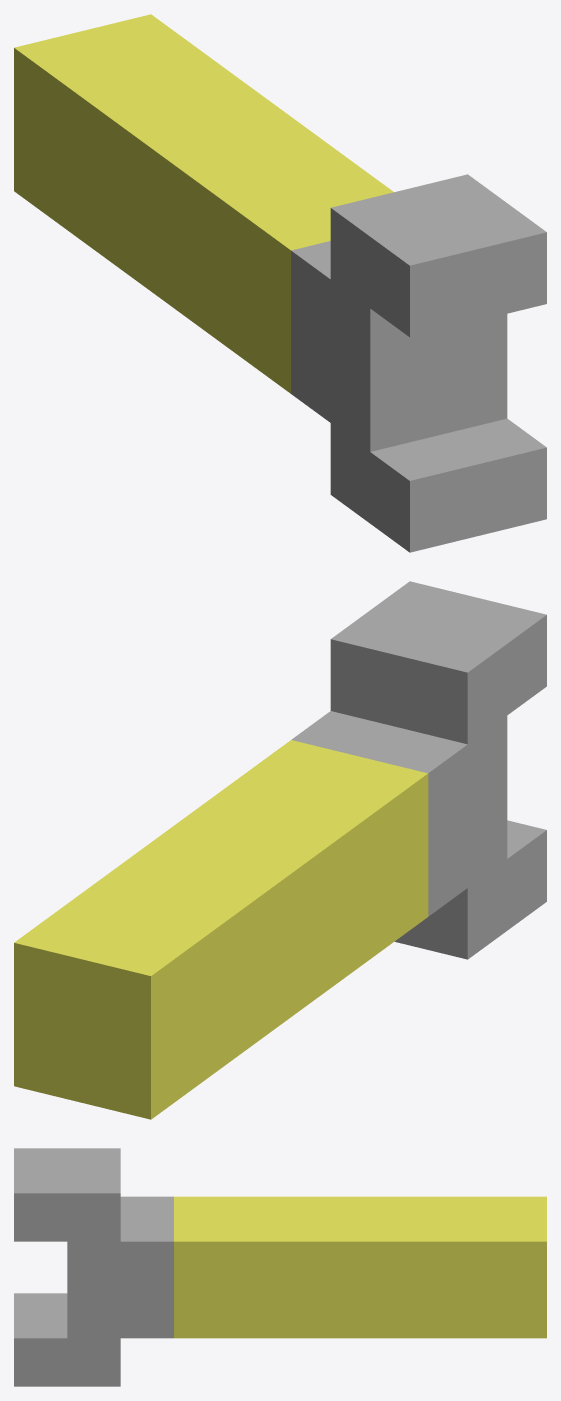
File: tracked robot arm.obj
3 views of the same model, one above another, from view 1: azimuth 30°, elevation 25°; view 2: azimuth 150°, elevation 25°; view 3: azimuth 270°, elevation 25° (orthographic). The views are drawn at different scales.
Size of the model in its own units: 4 by 8 by 20.
1 material, 1 textured.
